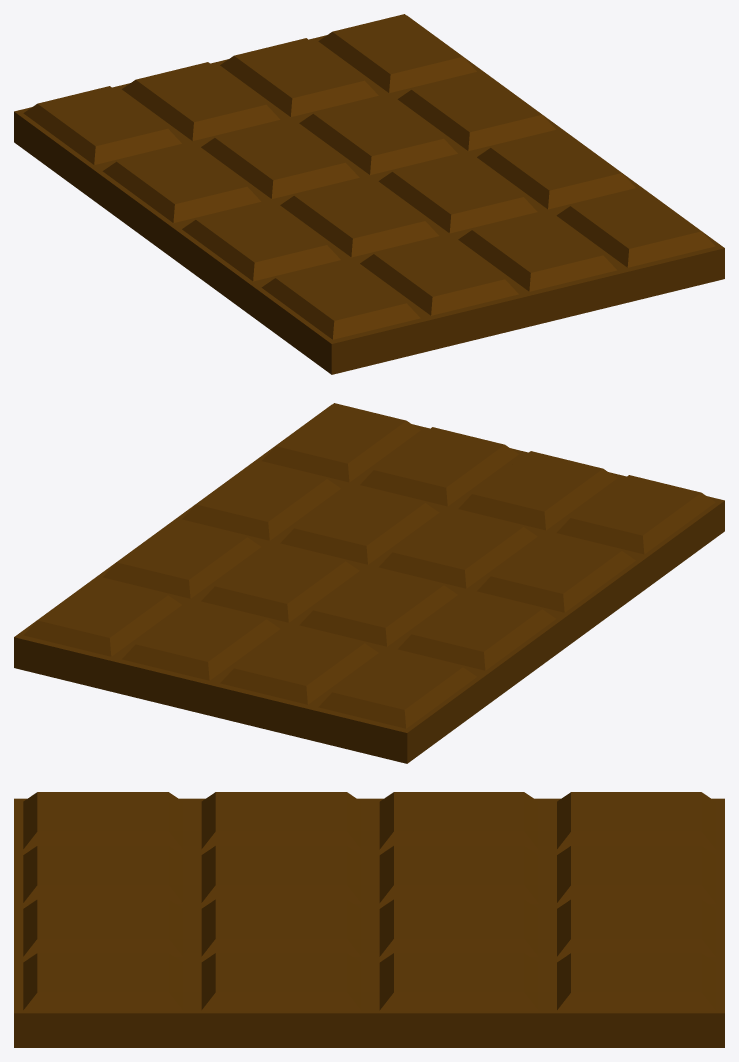
Rendered from chocolate_bar.dae.
3 renders of one model, top to bottom at view 1: azimuth 30°, elevation 25°; view 2: azimuth 150°, elevation 25°; view 3: azimuth 270°, elevation 25°, orthographic. The views are drawn at different scales.
Visible parts, largest first — view 1: Cubo; view 2: Cubo; view 3: Cubo.
Part boxes in pixels (x1=…): Cubo: x1=14, y1=14, x2=724, y2=374; Cubo: x1=14, y1=403, x2=724, y2=763; Cubo: x1=14, y1=792, x2=724, y2=1047.
Bounding box in the file's own units: 0.1 × 0.14 × 0.0105.
